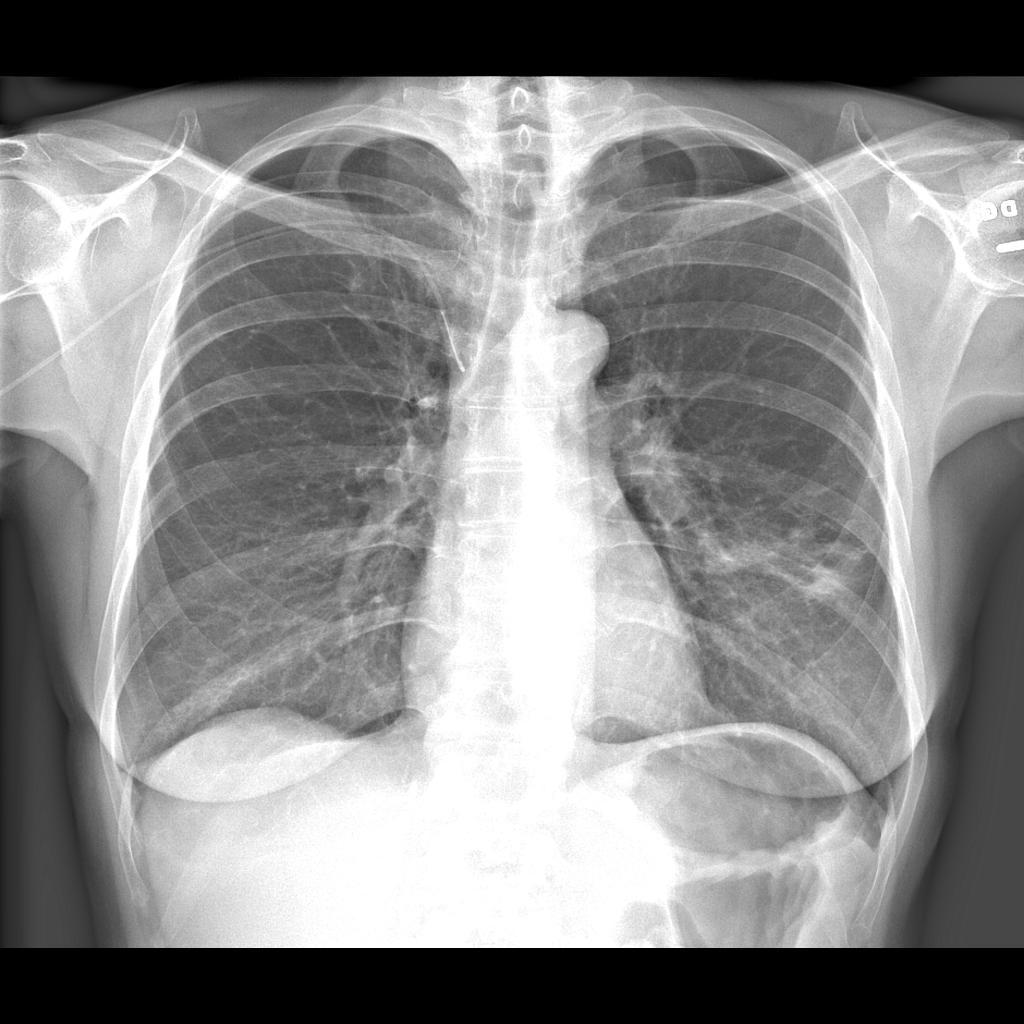Nodule: (782, 541, 875, 615)
